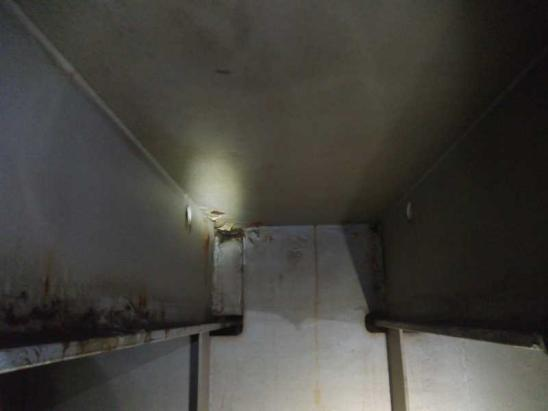corrosion: (0, 281, 175, 347), (208, 221, 256, 252), (225, 265, 253, 313)
